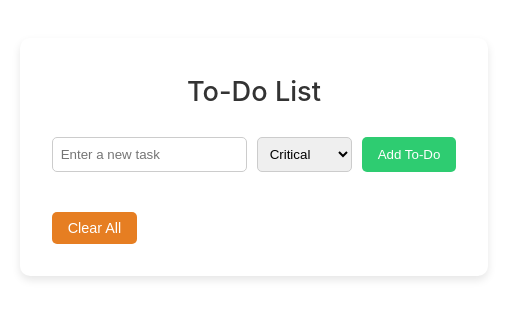
Todo Application Integration Test › should remove a todo
Step 1. Type "Task to Remove" into the field with class "todo-input" → x=150, y=155, box [52,137,247,172]
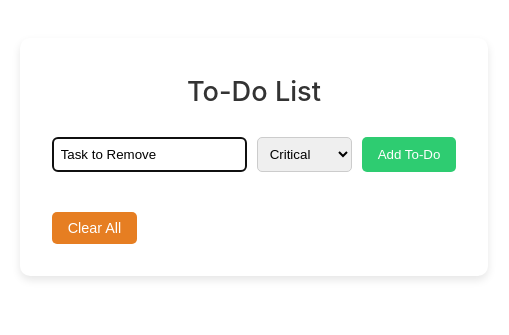
Step 2. Select "Moderate" in the dropdown → x=305, y=155, box [257,137,352,172]
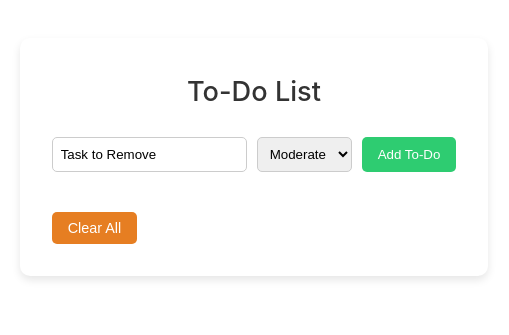
Step 3. Click the button "Add To-Do" → x=410, y=155, box [362,137,457,172]
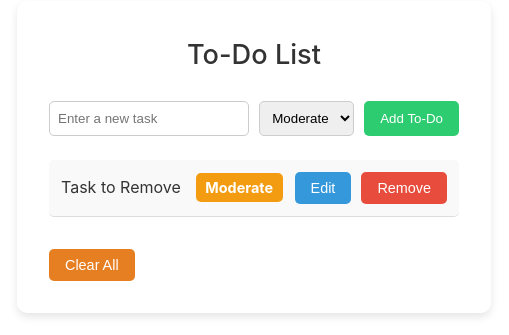
Step 4. Click the button with class "delete-button" → x=404, y=188, box [361,172,447,204]
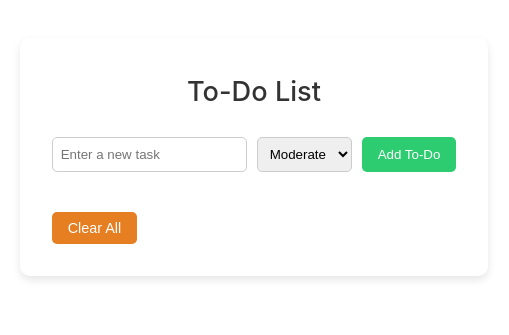
Expected: the list item with class "todo-item" is gone
